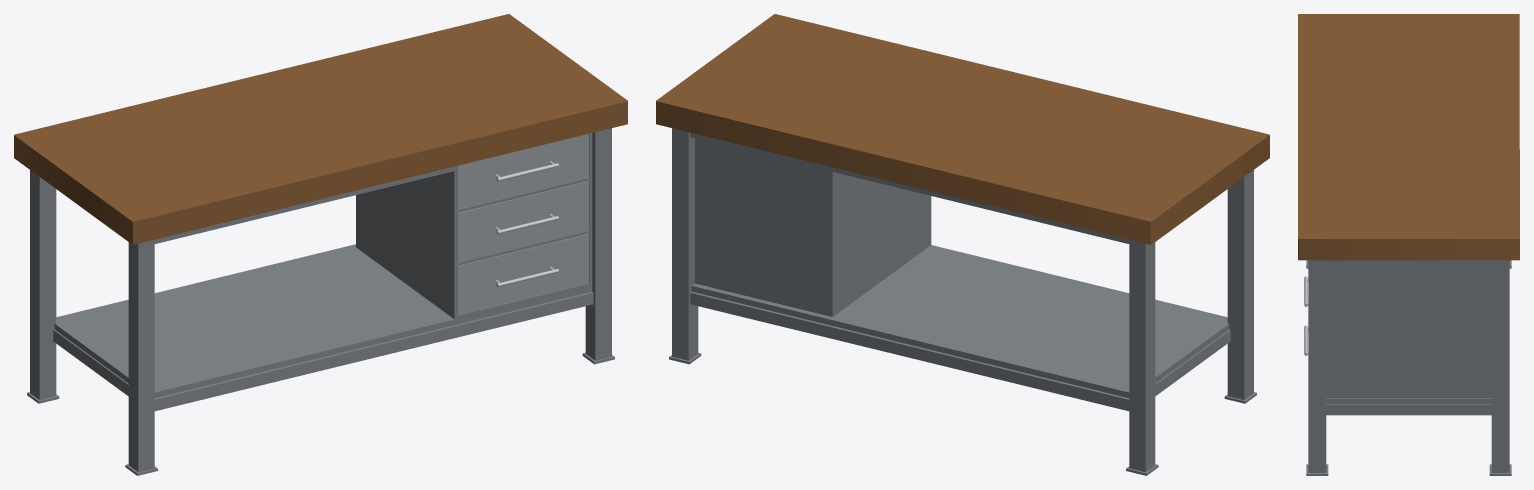
The model's file is industrial-workbench.glb.
3 views of the same model, side by side, from view 1: azimuth 30°, elevation 25°; view 2: azimuth 150°, elevation 25°; view 3: azimuth 270°, elevation 25° (orthographic). The views are drawn at different scales.
Visible parts, largest first — view 1: worktop_slab, Geom.040, Geom.025, Geom.002, Geom.009, Geom.034, Geom.036, Geom.032, Geom.016, Geom.035, Geom.047, Geom.038 (+1 smaller); view 2: worktop_slab, Geom.040, Geom.021, Geom.025, Geom.032, Geom.037, Geom.034, Geom.033, Geom.048, Geom.038, Geom.022; view 3: worktop_slab, Geom.026, Geom.033, Geom.035, Geom.039, Geom.040, Geom.050, Geom.022.
Boxes of the visible parts, x1,y1,x2,y2 form: worktop_slab: [14, 14, 627, 244]; Geom.040: [54, 244, 592, 397]; Geom.025: [357, 170, 457, 319]; Geom.002: [457, 234, 588, 314]; Geom.009: [457, 181, 588, 261]; Geom.034: [128, 240, 154, 472]; Geom.036: [154, 291, 593, 411]; Geom.032: [30, 170, 56, 399]; Geom.016: [457, 134, 588, 209]; Geom.035: [585, 128, 611, 360]; Geom.047: [154, 166, 457, 243]; Geom.038: [53, 329, 128, 396]; worktop_slab: [656, 14, 1269, 244]; Geom.040: [691, 245, 1229, 397]; Geom.021: [697, 139, 834, 315]; Geom.025: [830, 171, 931, 313]; Geom.032: [1129, 239, 1155, 472]; Geom.037: [690, 291, 1129, 411]; Geom.034: [1227, 170, 1253, 399]; Geom.033: [672, 128, 698, 360]; Geom.048: [690, 132, 1129, 243]; Geom.038: [1155, 329, 1230, 396]; Geom.022: [695, 242, 931, 316]; worktop_slab: [1298, 14, 1519, 260]; Geom.026: [1326, 264, 1491, 396]; Geom.033: [1491, 260, 1509, 472]; Geom.035: [1308, 260, 1326, 472]; Geom.039: [1326, 404, 1491, 415]; Geom.040: [1326, 398, 1491, 403]; Geom.050: [1326, 260, 1491, 264]; Geom.022: [1326, 395, 1491, 397].
Bounding box in the file's own units: 1.8 × 0.9 × 0.75.
